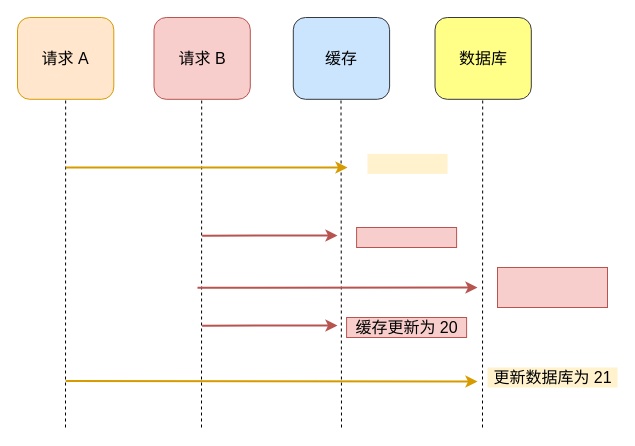
The diagram is 635 pixels wide and 446 high, and some of its shapes have lost their labels. The shapes that lost their labels are listed below. From the top down, each one's box as (x1, y1, x2, y2) in pixels, then its label:
(367, 153, 447, 173): 删除缓存
(356, 226, 457, 248): 缓存未命中
(496, 266, 608, 308): 读取数据库中 的值为 20
